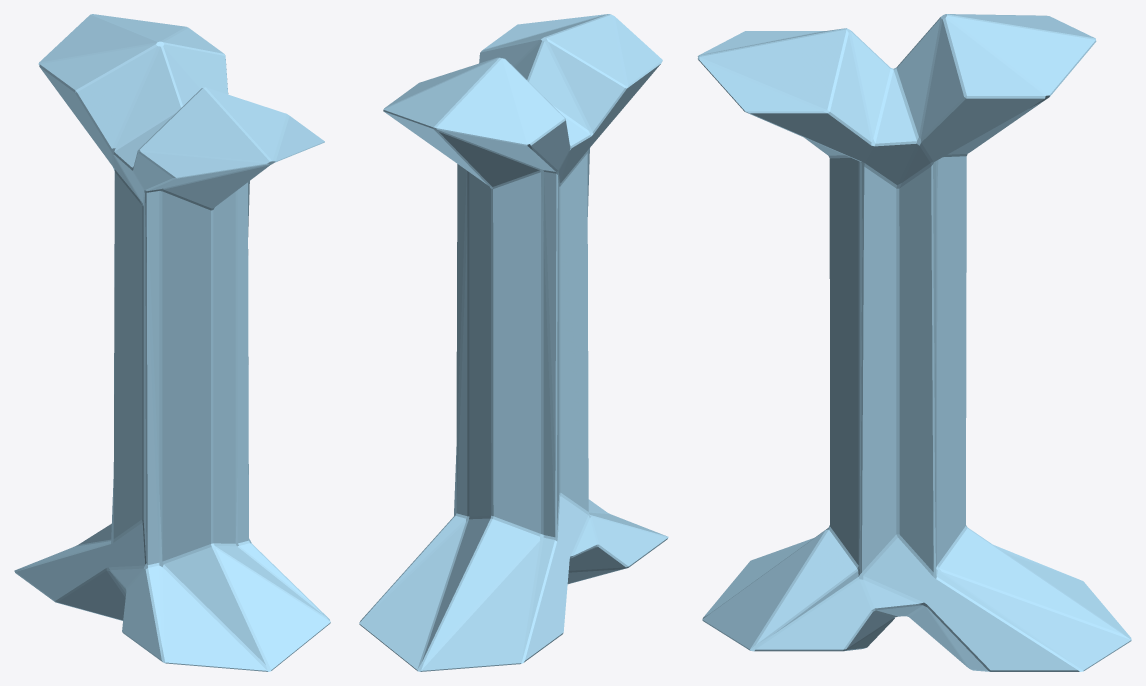
Rendered from Bone 1.fbx.
3 renders of one model, left to right at view 1: azimuth 30°, elevation 25°; view 2: azimuth 150°, elevation 25°; view 3: azimuth 270°, elevation 25°, orthographic. The views are drawn at different scales.
Parts seen in each view (by area): view 1: Bone 1; view 2: Bone 1; view 3: Bone 1.
Part boxes in pixels (bbox=[...]): Bone 1: bbox=[14, 14, 330, 671]; Bone 1: bbox=[359, 14, 668, 671]; Bone 1: bbox=[697, 14, 1131, 671].
Size of the model in its own units: 33.42 by 113 by 67.68.
